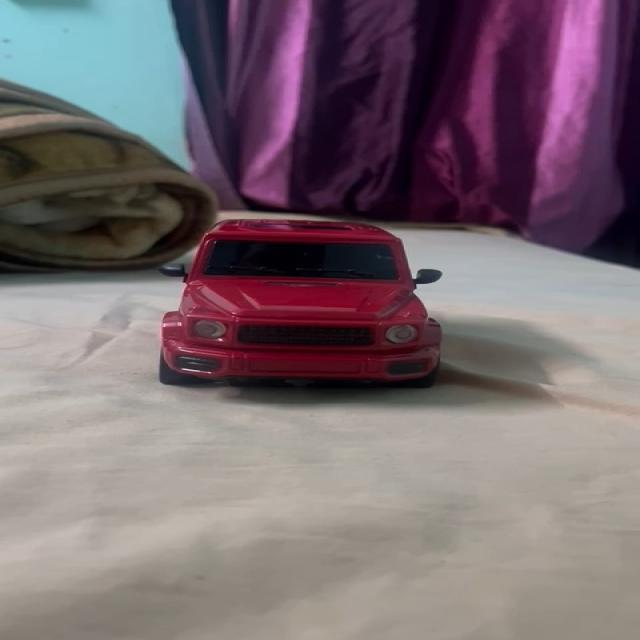light_vehicle: (154, 212, 450, 388)
